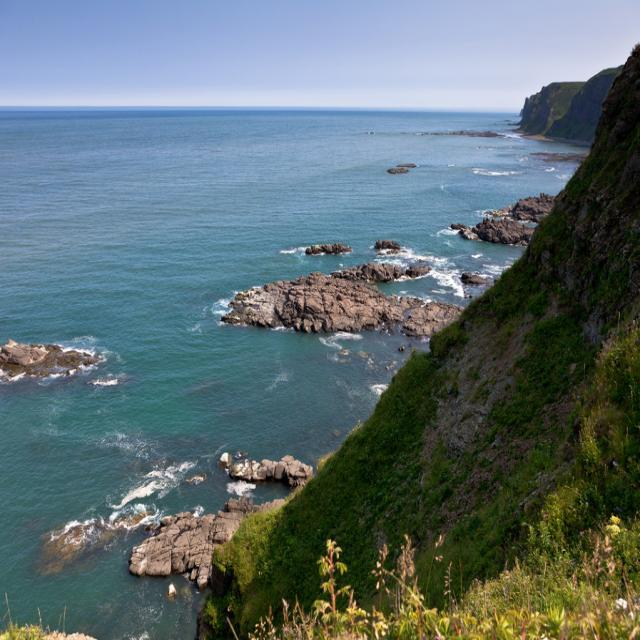reef: (230, 230, 452, 352), (96, 434, 285, 570), (0, 308, 126, 380), (462, 182, 548, 248)
